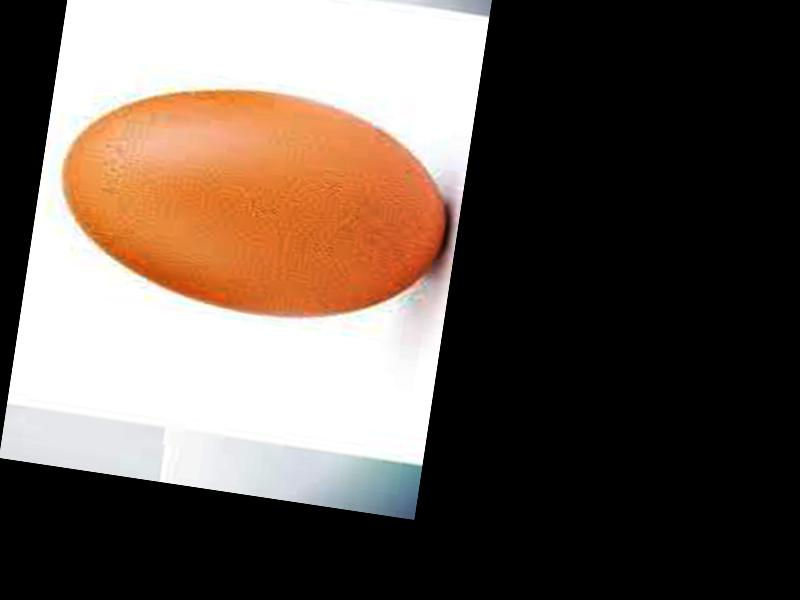Eggs: (48, 64, 461, 339)
